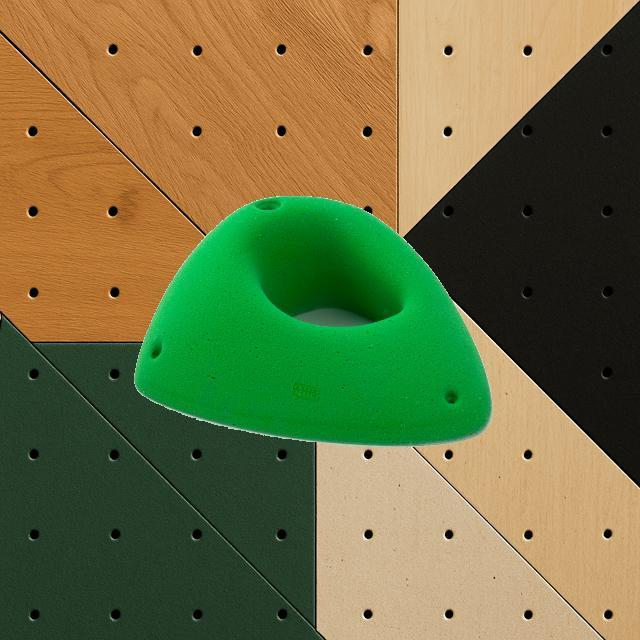Pocket: (132, 195, 492, 447)
